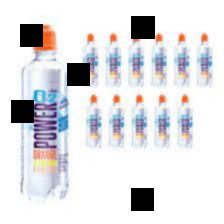powerO2_orange: (18, 20, 75, 204)
